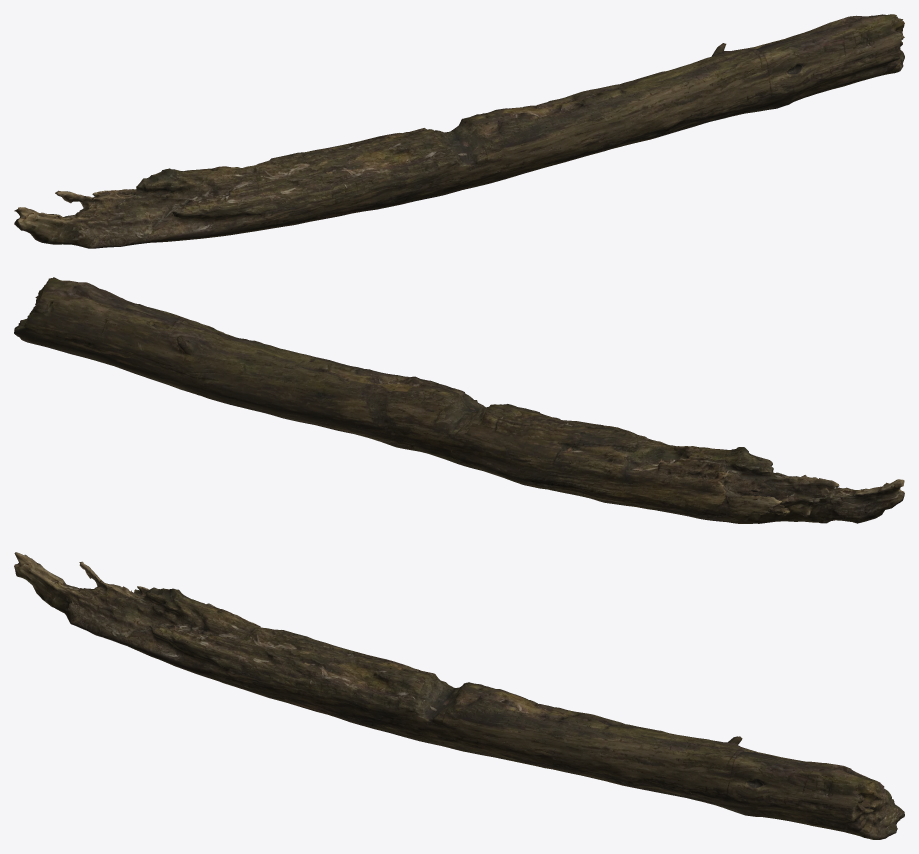
Rendered from dead_tree_trunk.glb.
3 views of the same model, one above another, from view 1: azimuth 30°, elevation 25°; view 2: azimuth 150°, elevation 25°; view 3: azimuth 330°, elevation 25° (orthographic).
Parts seen in each view (by area): view 1: dead_tree_trunk; view 2: dead_tree_trunk; view 3: dead_tree_trunk.
Part boxes in pixels (left/top/right/bottom): dead_tree_trunk: left=14, top=14, right=904, bottom=248; dead_tree_trunk: left=14, top=277, right=904, bottom=523; dead_tree_trunk: left=14, top=552, right=904, bottom=839.
Size of the model in its own units: 3.05 by 0.2895 by 0.2766.
Materials: 1 (1 with a texture image).
